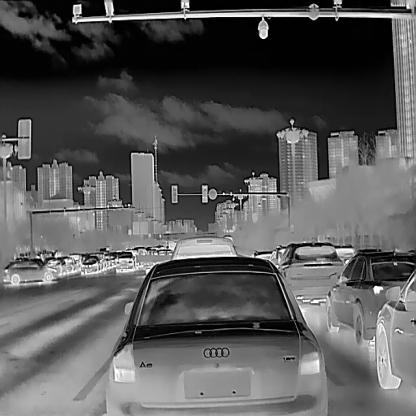car: (105, 256, 328, 415), (326, 248, 415, 347), (366, 270, 415, 388), (274, 240, 344, 295), (170, 234, 237, 259), (1, 256, 58, 284), (114, 250, 134, 271), (80, 255, 102, 274)
truck: (134, 246, 173, 272)
